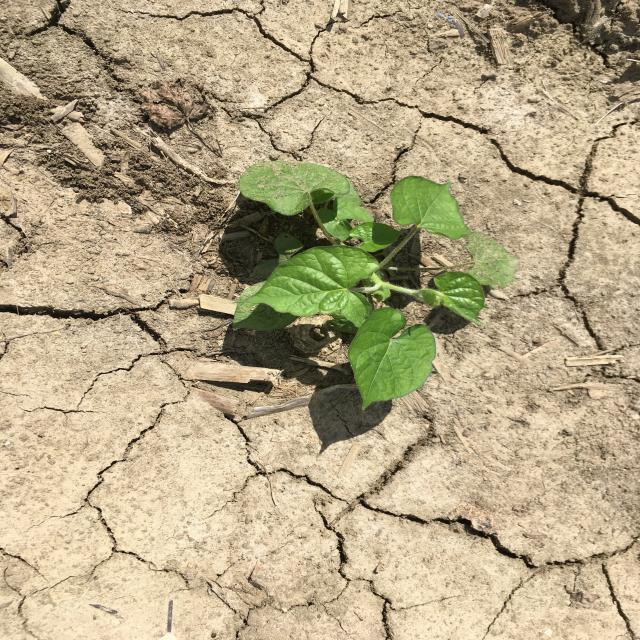MorningGlory: (232, 160, 520, 410)
